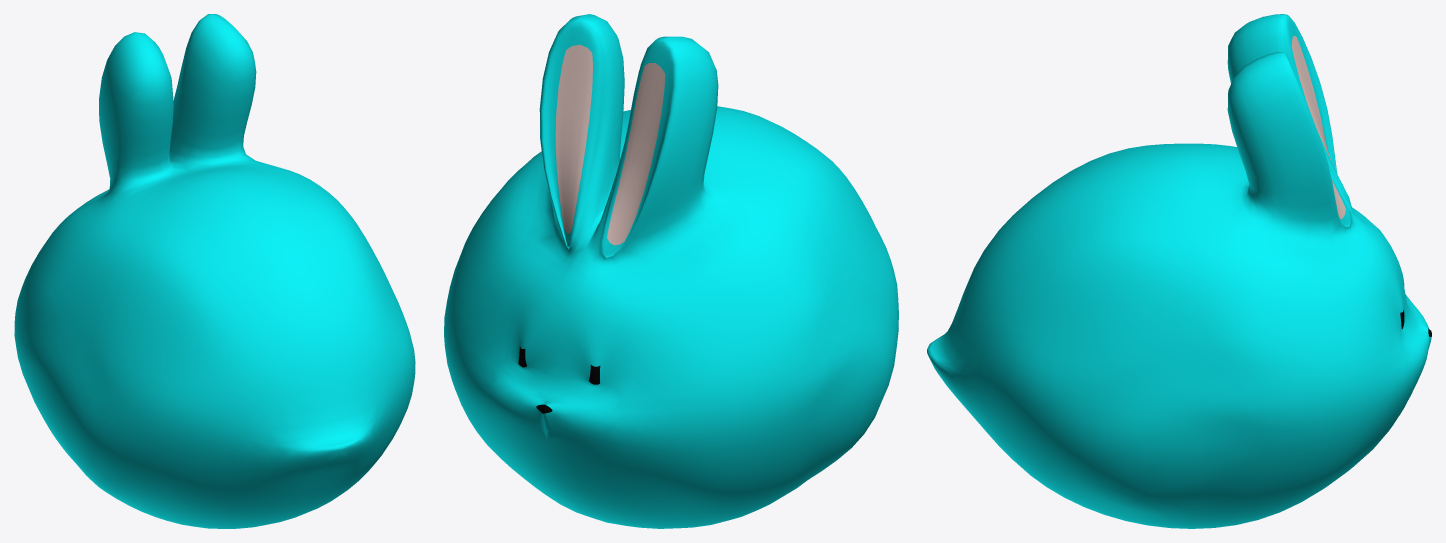
The model's file is prey_52.glb.
The picture shows the model from 3 angles, left to right: view 1: azimuth 30°, elevation 25°; view 2: azimuth 150°, elevation 25°; view 3: azimuth 270°, elevation 25°; orthographic projection. The views are drawn at different scales.
Visible parts, largest first — view 1: Cube; view 2: Cube; view 3: Cube.
Part boxes in pixels (x1,y1,x2,y2): Cube: (14, 14, 415, 528); Cube: (444, 14, 898, 528); Cube: (927, 14, 1431, 528).
Size of the model in its own units: 4.03 by 5.34 by 5.15.
